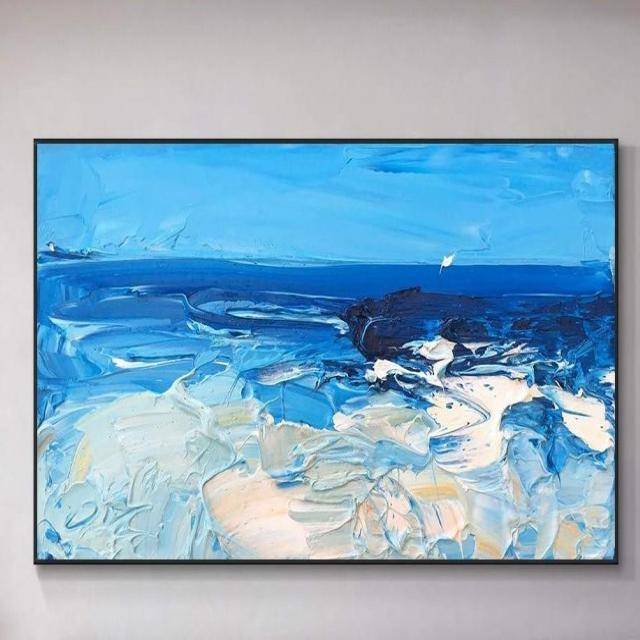painting: (34, 139, 616, 561)
